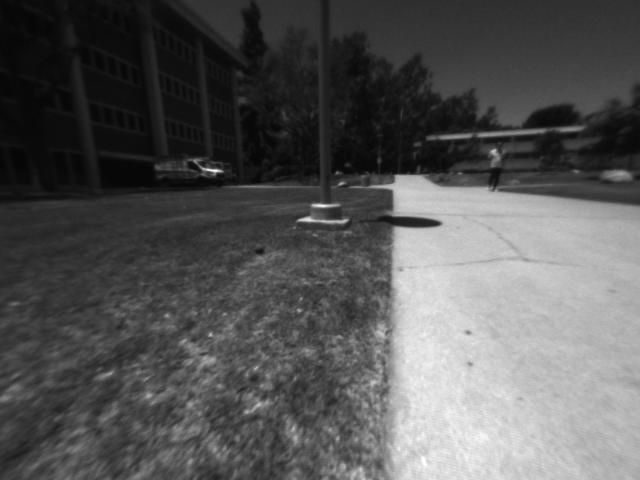dogtoy: (248, 240, 274, 258)
